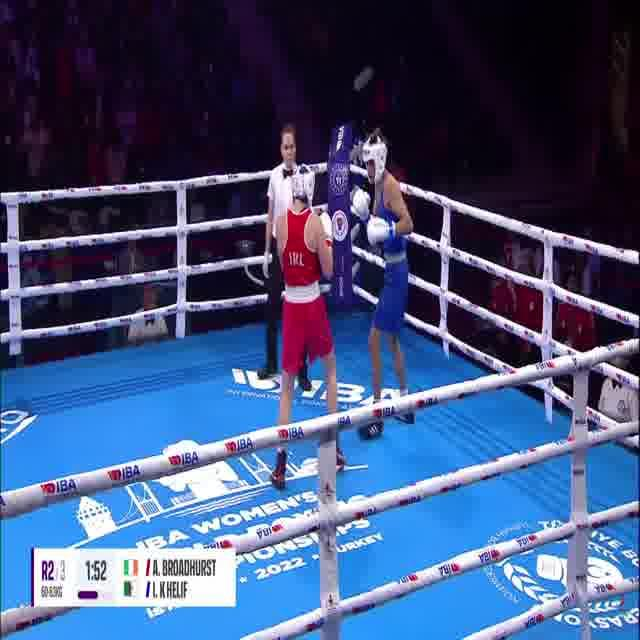blue-player: (342, 126, 418, 446)
red-player: (272, 162, 350, 490)
referee: (260, 128, 321, 393)
